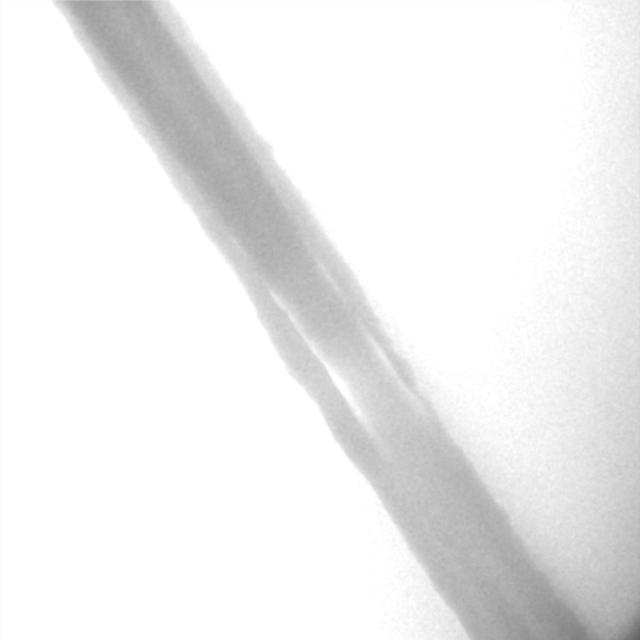unfused: (273, 257, 409, 427)
